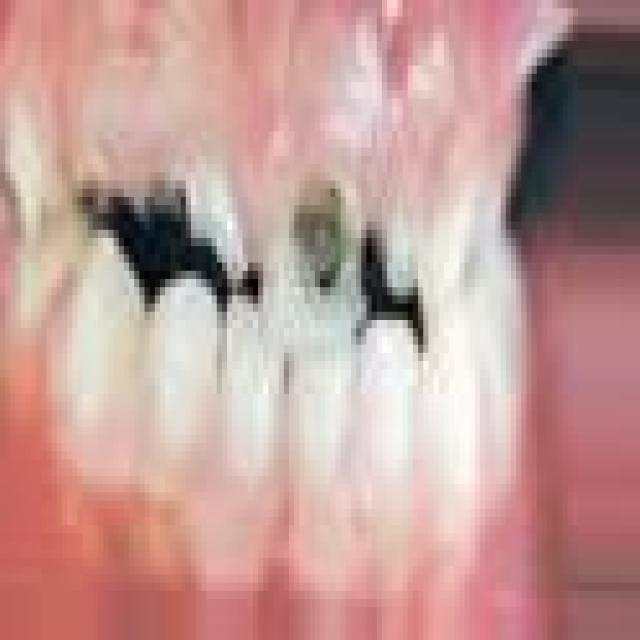caries: (256, 156, 366, 361)
